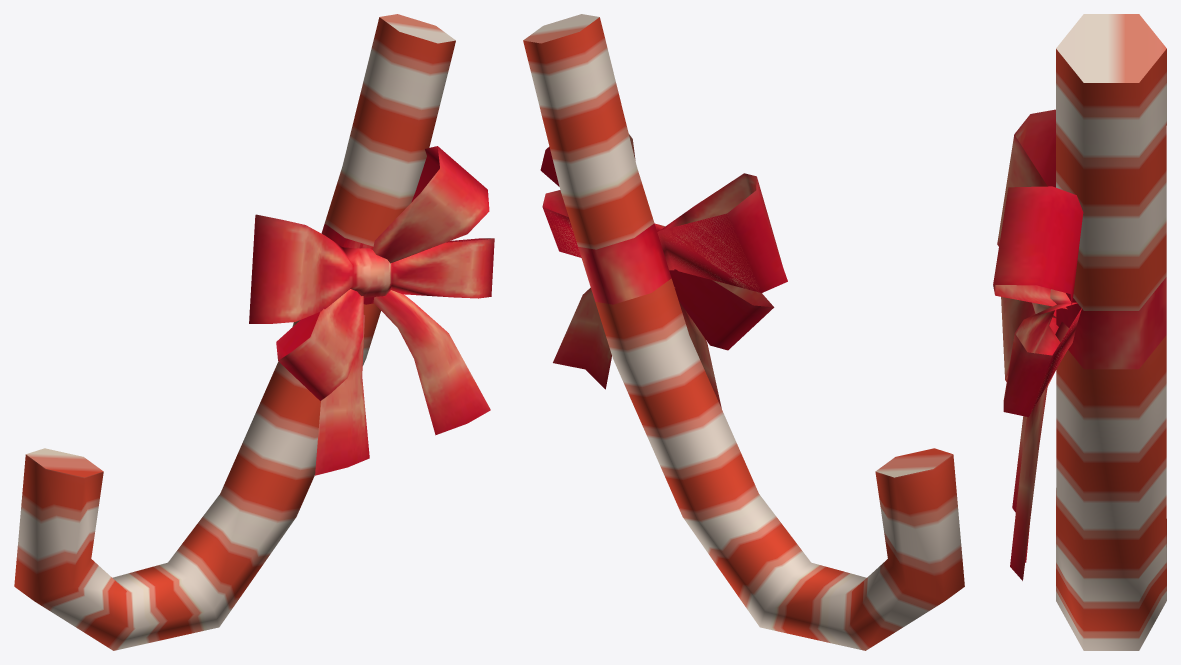
The model's file is furni_0200209.FBX.
The picture shows the model from 3 angles, left to right: view 1: azimuth 30°, elevation 25°; view 2: azimuth 150°, elevation 25°; view 3: azimuth 270°, elevation 25°; orthographic projection. The views are drawn at different scales.
Visible parts, largest first — view 1: furni_0200209; view 2: furni_0200209; view 3: furni_0200209.
Part boxes in pixels (x1,y1,x2,y2): furni_0200209: (14,14,494,650); furni_0200209: (523,14,964,650); furni_0200209: (993,14,1166,650).
Size of the model in its own units: 70.38 by 84.35 by 17.54.
Materials: 1 (1 with a texture image).
